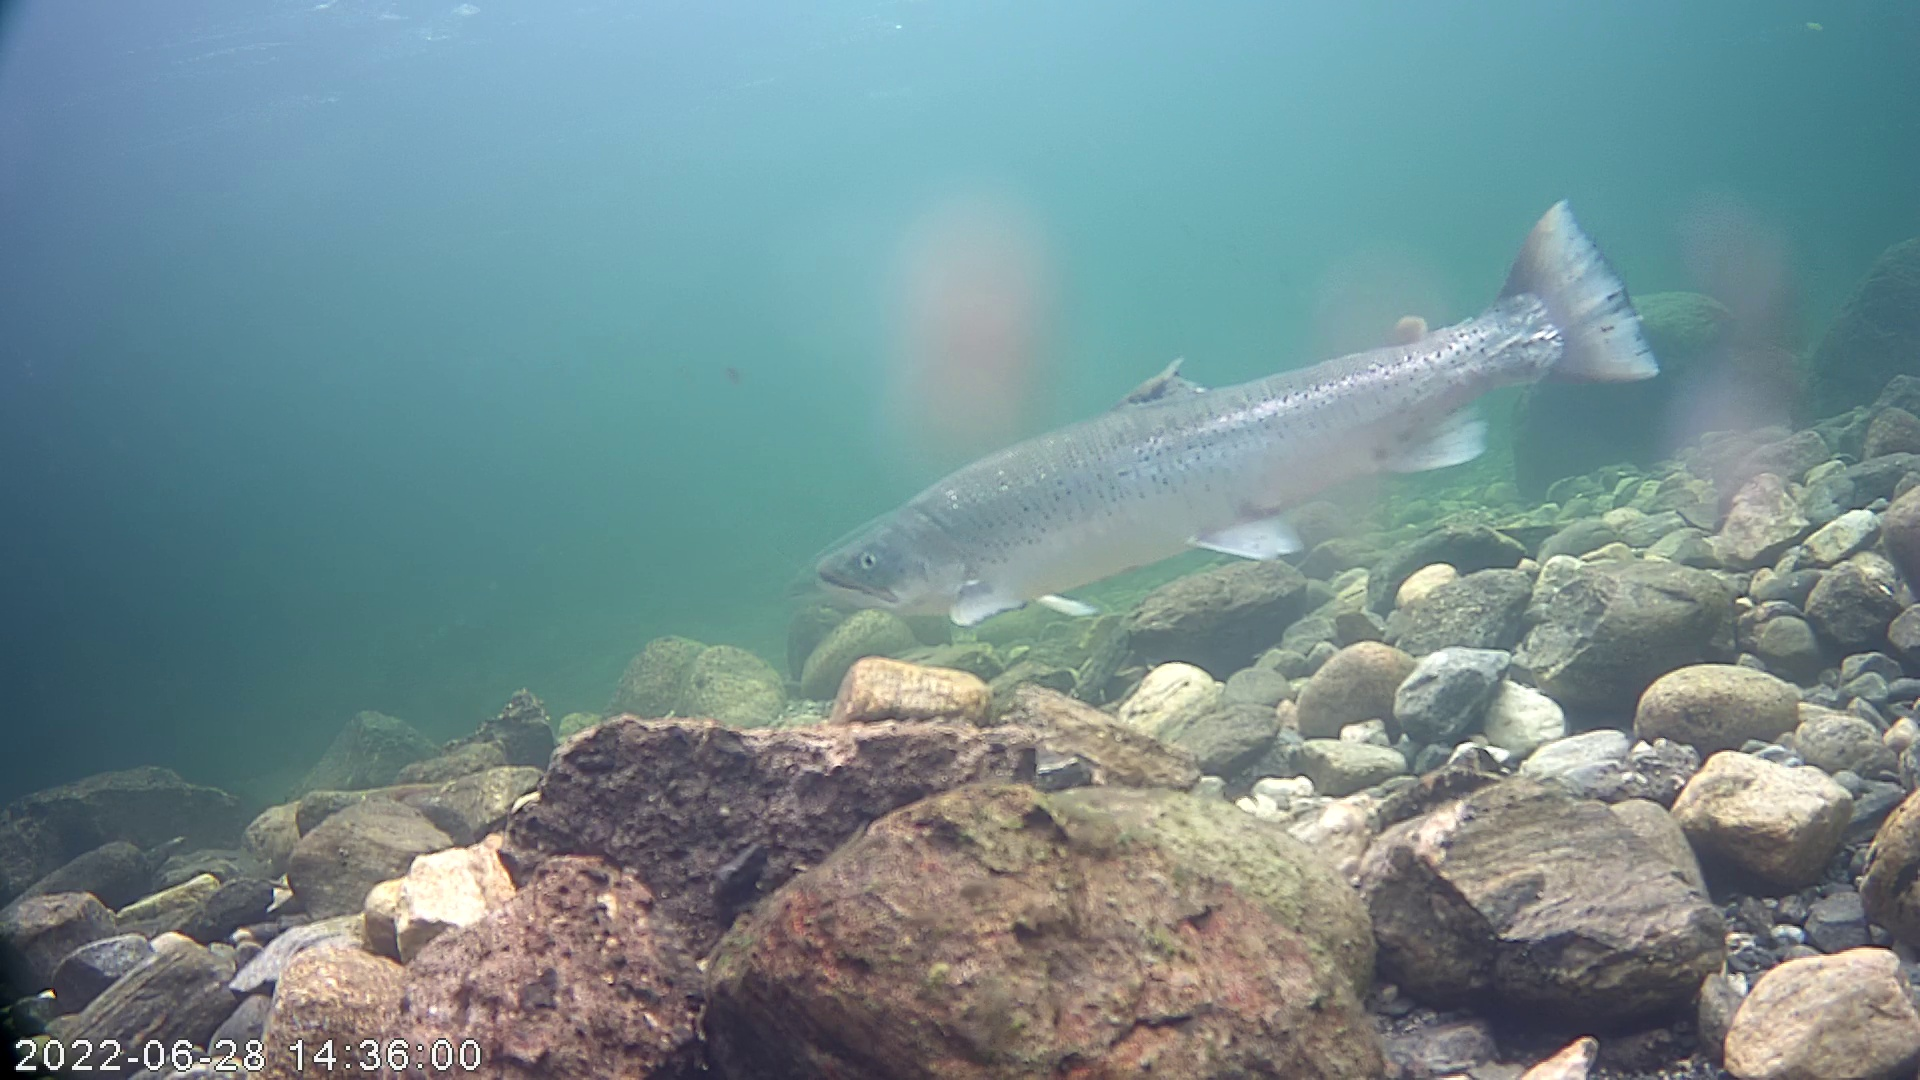salmon: (802, 175, 1668, 669)
